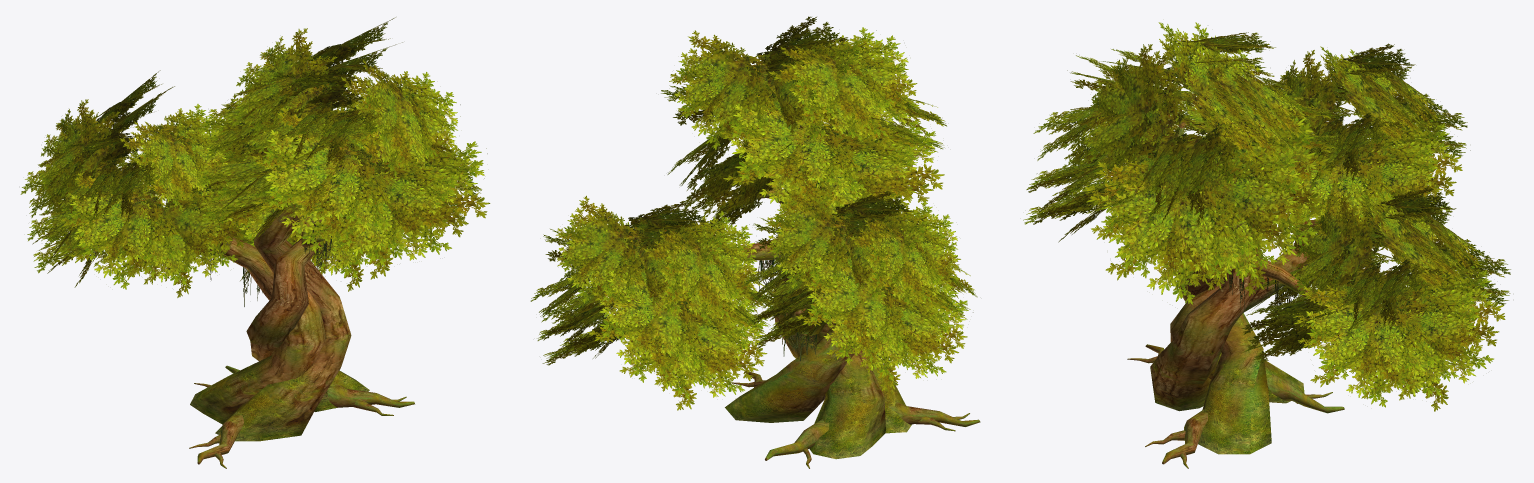
Rendered from obj_masaprthtr01.glb.
3 views of the same model, side by side, from view 1: azimuth 30°, elevation 25°; view 2: azimuth 150°, elevation 25°; view 3: azimuth 270°, elevation 25° (orthographic). The views are drawn at different scales.
Parts seen in each view (by area): view 1: part_0; view 2: part_0; view 3: part_0.
Boxes of the visible parts, x1,y1,x2,y2 form: part_0: (20,17,490,468); part_0: (530,16,980,468); part_0: (1023,22,1510,468).
Bounding box in the file's own units: 112 × 99.44 × 114.
3 materials, 3 textured.
